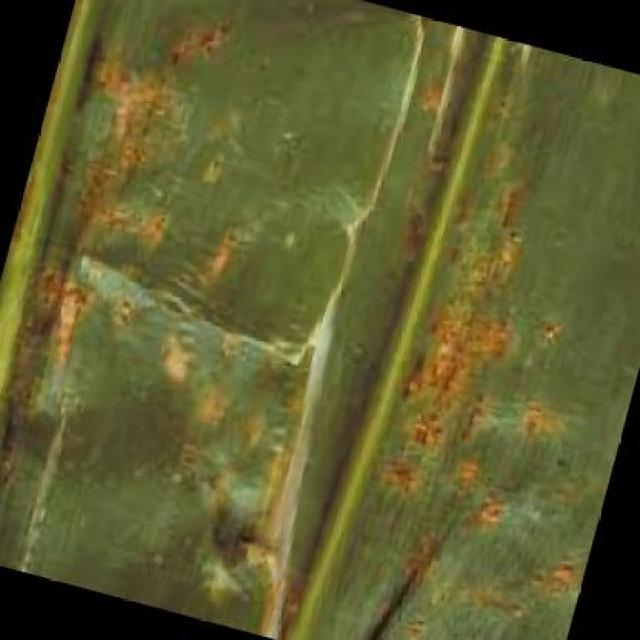Corn_Rust: (292, 125, 577, 604)
